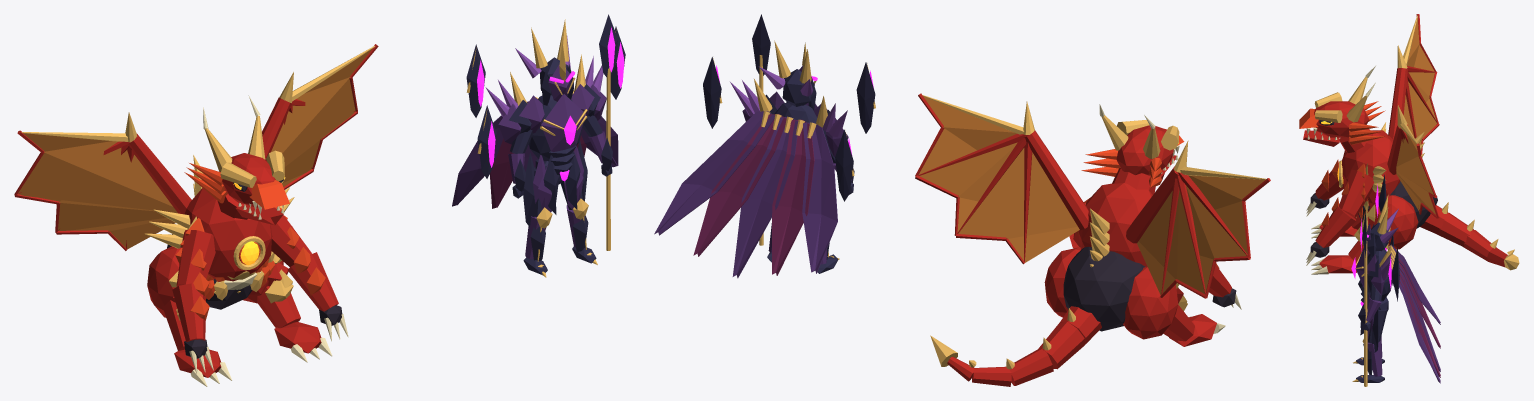
Rendered from reference-fighters.glb.
The picture shows the model from 3 angles, left to right: view 1: azimuth 30°, elevation 25°; view 2: azimuth 150°, elevation 25°; view 3: azimuth 270°, elevation 25°; orthographic projection. The views are drawn at different scales.
Parts seen in each view (by area): view 1: Amber wing sail, Amber wing sail.003, Dragon thorax, Amber wing sail.001, Wing humerus, Dragon haunch, Dragon upper arm, Knight breastplate, Dragon forearm, Dragon cranium, Knight cape panel, Amber wing sail.002 (+23 smaller); view 2: Amber wing sail.005, Dragon pelvis, Knight cape panel.002, Knight cape panel.004, Amber wing sail.002, Knight cape panel, Knight cape panel.001, Knight cape panel.003, Dragon thorax, Amber wing sail.003, Amber wing sail.004, Dragon haunch (+26 smaller); view 3: Dragon thorax, Dragon haunch.001, Amber wing sail.003, Dragon upper arm.001, Dragon cranium, Amber wing sail.002, Dragon forearm.001, Wing humerus, Dragon tail armour.001, Amber wing sail, Dragon foot.001, Knight cape panel.004 (+33 smaller).
Part boxes in pixels (x1,y1,x2,y2): Amber wing sail: (18,133,177,212); Amber wing sail.003: (271,48,372,166); Dragon thorax: (182,188,272,281); Amber wing sail.001: (39,197,177,230); Wing humerus: (128,134,191,214); Dragon haunch: (147,246,181,317); Dragon upper arm: (176,230,215,286); Knight breastplate: (541,94,586,151); Dragon forearm: (172,283,205,341); Dragon cranium: (222,153,275,207); Knight cape panel: (452,101,528,206); Amber wing sail.002: (71,218,175,249); Amber wing sail.005: (958,148,1079,262); Dragon pelvis: (1063,246,1144,331); Knight cape panel.002: (732,117,798,278); Knight cape panel.004: (654,111,774,235); Amber wing sail.002: (1137,190,1204,295); Knight cape panel: (802,122,837,273); Knight cape panel.001: (772,119,814,275); Knight cape panel.003: (693,114,786,256); Dragon thorax: (1078,183,1152,266); Amber wing sail.003: (918,96,1016,174); Amber wing sail.004: (919,142,1017,232); Dragon haunch: (1123,266,1178,339); Dragon thorax: (1341,130,1400,206); Dragon haunch.001: (1368,195,1418,249); Amber wing sail.003: (1396,134,1433,194); Dragon upper arm.001: (1339,169,1374,217); Dragon cranium: (1314,101,1369,137); Amber wing sail.002: (1403,81,1436,144); Dragon forearm.001: (1315,206,1355,247); Wing humerus: (1388,68,1407,139); Dragon tail armour.001: (1437,213,1473,246); Amber wing sail: (1407,18,1434,71); Dragon foot.001: (1319,255,1357,273); Knight cape panel.004: (1391,262,1440,383).
Size of the model in its own units: 22.37 by 8.41 by 9.28.
